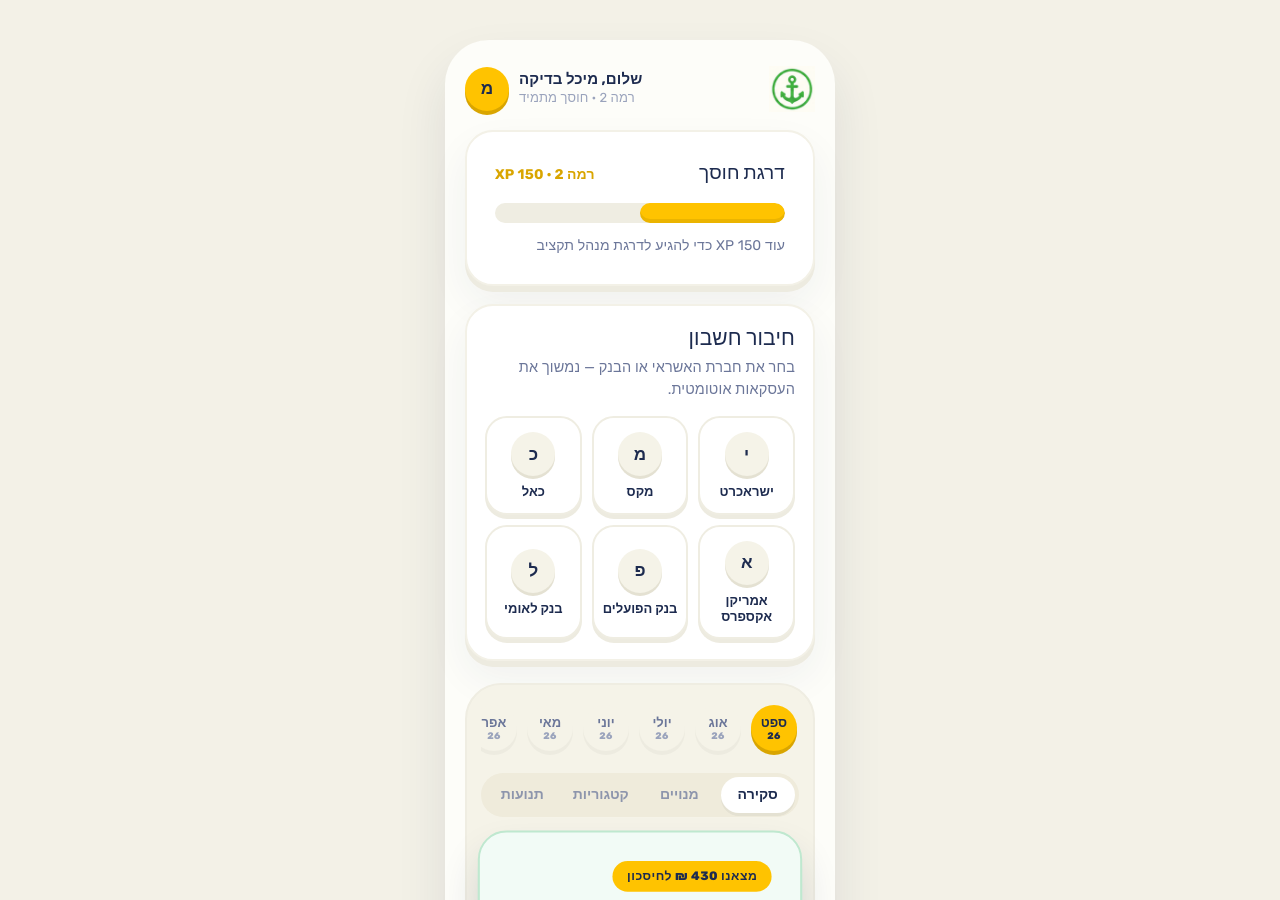
Test case: HomePage › lists transactions from every page in the full month popup
Click the button "תנועות".
click(522, 795)  # box [485, 777, 560, 813]
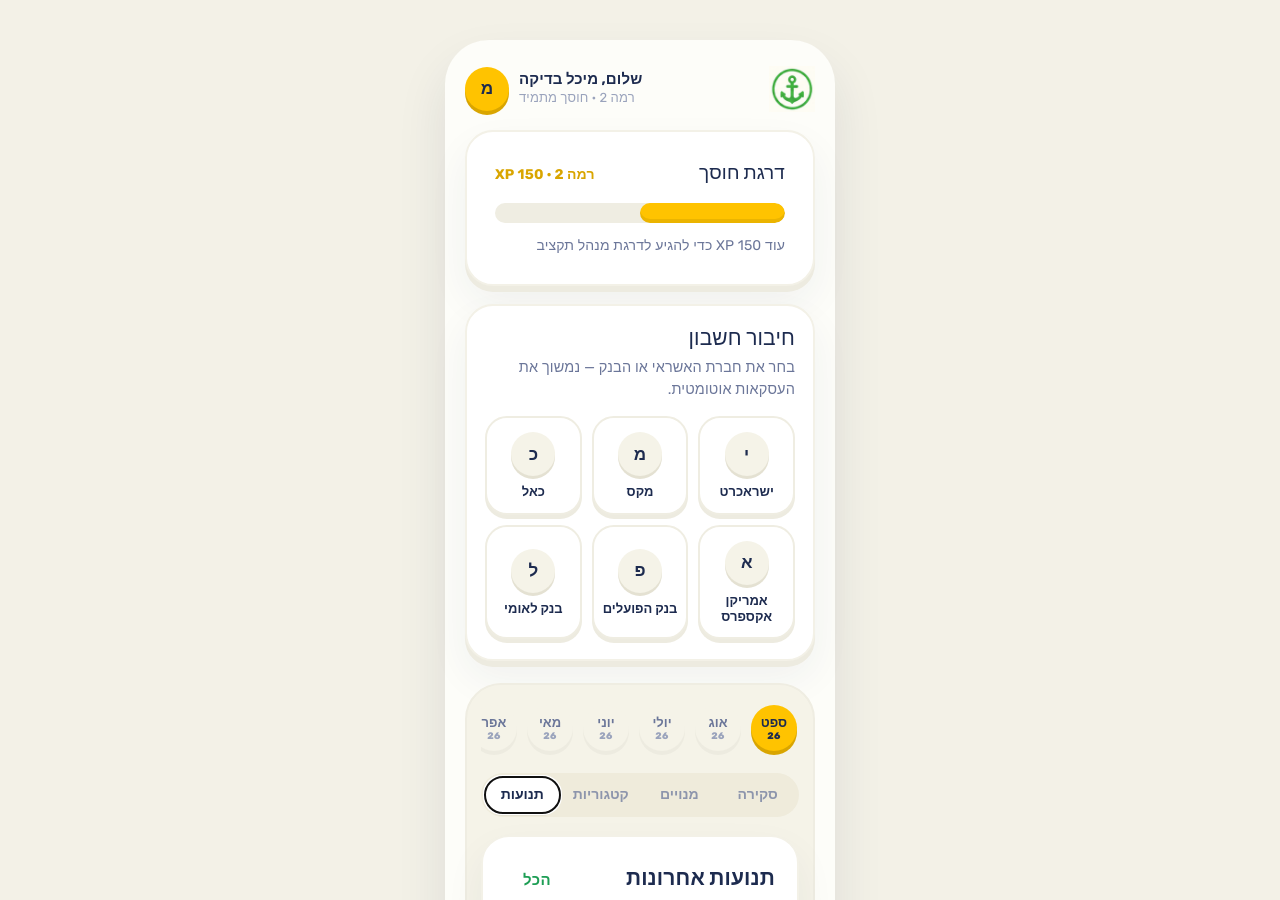
Click the button "הכל".
click(537, 880)  # box [505, 861, 569, 899]
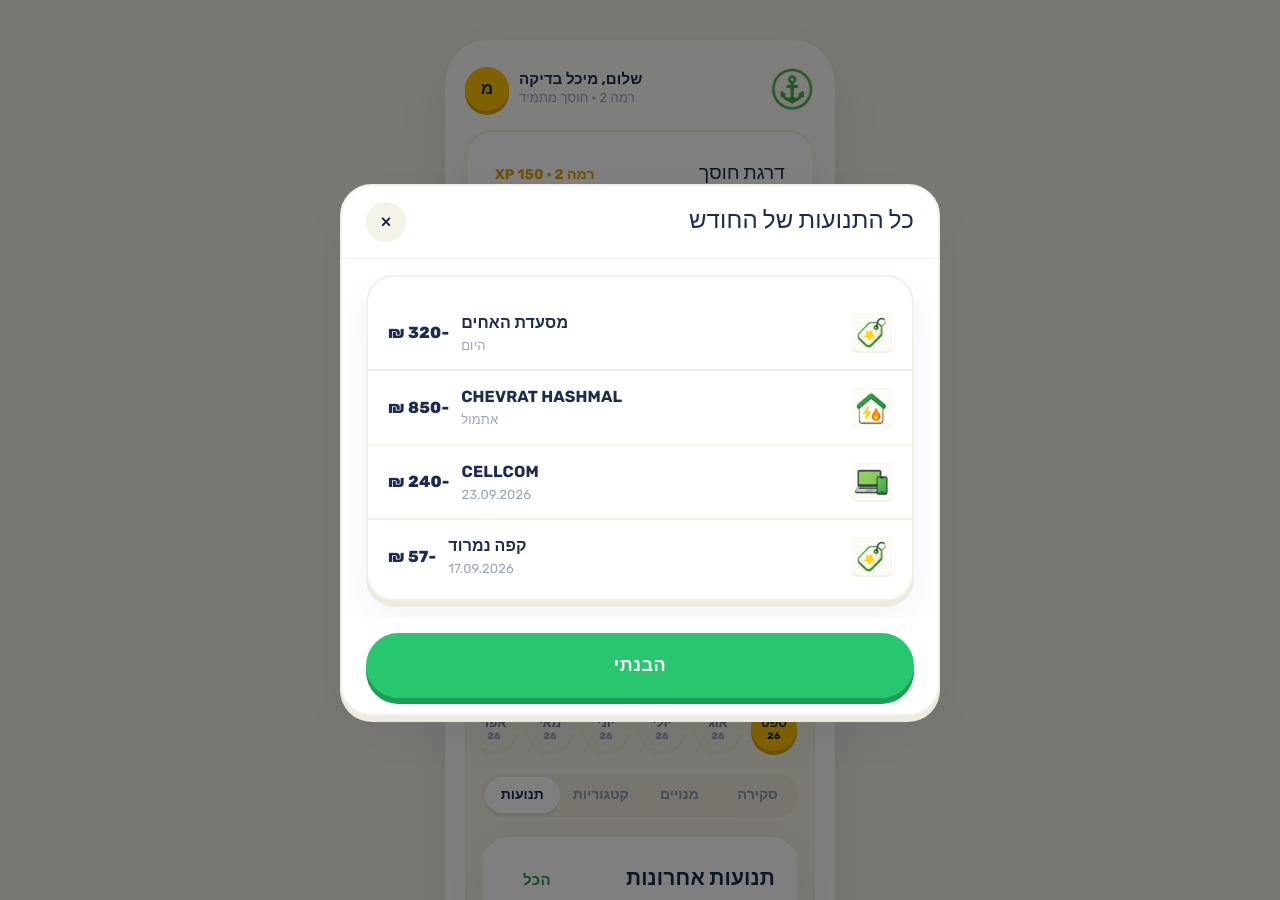
Check: the text "קפה נמרוד" is shown, box [448, 536, 527, 555]
